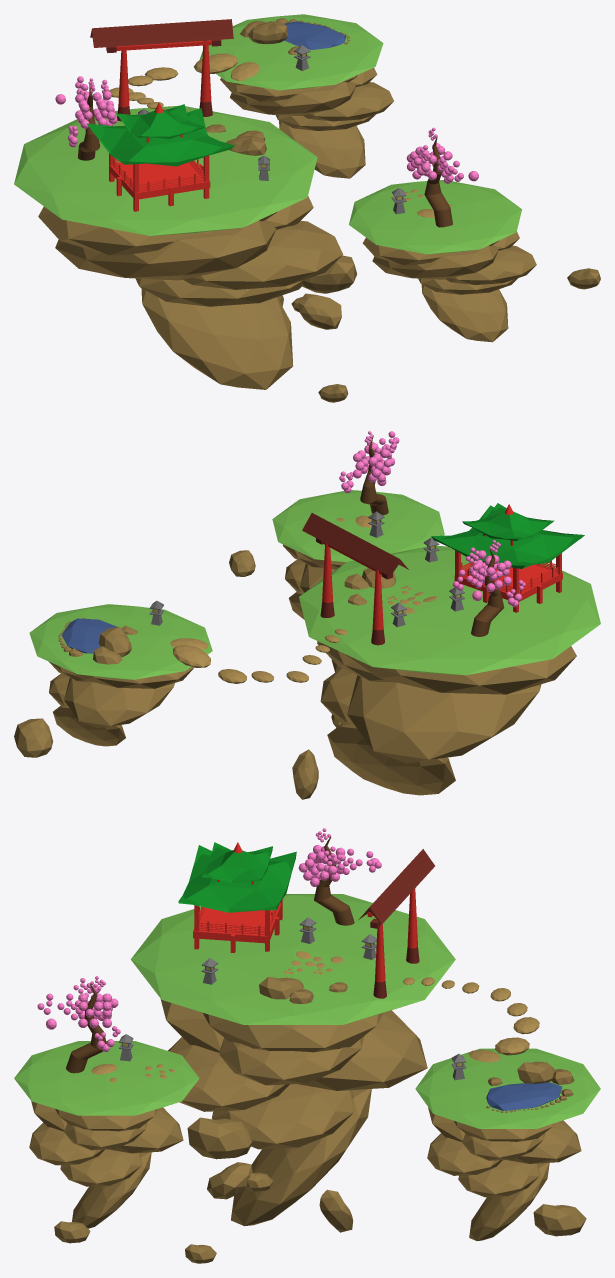
The model's file is maria.glb.
The picture shows the model from 3 angles, top to bottom: view 1: azimuth 30°, elevation 25°; view 2: azimuth 150°, elevation 25°; view 3: azimuth 270°, elevation 25°; orthographic projection. The views are drawn at different scales.
Visible parts, largest first — view 1: Icosphere.020, Icosphere.014, Icosphere, Icosphere.013, Icosphere.018, Icosphere.016, Cube.071, Icosphere.006, Icosphere.019, Cube.012, Icosphere.007, Icosphere.015 (+21 smaller); view 2: Icosphere.020, Icosphere.018, Icosphere.013, Icosphere, Icosphere.014, Icosphere.019, Icosphere.011, Cube.071, Cube.012, Cube.076, Icosphere.007, Icosphere.015 (+13 smaller); view 3: Icosphere.020, Icosphere, Icosphere.013, Icosphere.018, Icosphere.014, Icosphere.015, Cube.071, Icosphere.017, Icosphere.016, Icosphere.019, Icosphere.007, Icosphere.177 (+23 smaller).
Part boxes in pixels (x1,y1,x2,y2): Icosphere.020: (14,105,317,235); Icosphere.014: (141,288,293,389); Icosphere: (349,180,521,254); Icosphere.013: (199,14,383,90); Icosphere.018: (55,220,276,280); Icosphere.016: (183,220,343,289); Cube.071: (87,108,234,166); Icosphere.006: (421,284,508,342); Icosphere.019: (38,206,276,255); Cube.012: (90,19,233,47); Icosphere.007: (279,120,365,178); Icosphere.015: (135,278,302,306); Icosphere.020: (299,545,600,675); Icosphere.018: (347,675,541,763); Icosphere.013: (29,604,212,679); Icosphere: (272,490,444,562); Icosphere.014: (327,723,455,795); Icosphere.019: (338,646,576,694); Icosphere.011: (64,678,174,727); Cube.071: (431,505,584,568); Cube.012: (302,513,408,576); Cube.076: (462,503,554,540); Icosphere.007: (53,705,125,746); Icosphere.015: (320,667,357,723); Icosphere.020: (131,894,455,1024); Icosphere: (14,1041,199,1115); Icosphere.013: (415,1048,600,1128); Icosphere.018: (160,999,427,1090); Icosphere.014: (231,1089,371,1226); Icosphere.015: (211,1084,354,1149); Cube.071: (178,845,296,912); Icosphere.017: (219,1036,364,1085); Icosphere.016: (168,1037,289,1111); Icosphere.019: (203,1013,383,1052); Icosphere.007: (469,1163,549,1240); Icosphere.177: (187,1117,252,1159).
Size of the model in its own units: 29.21 by 20.19 by 31.21.
